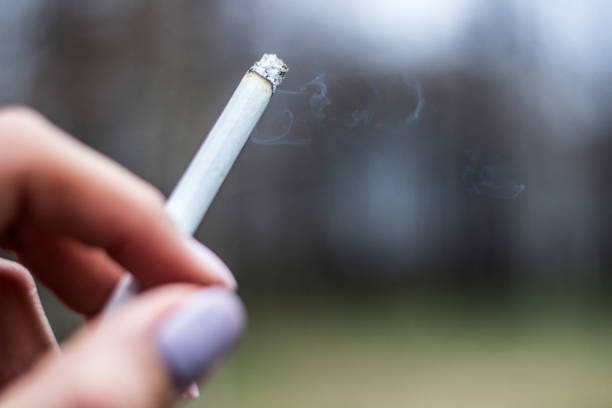cigarette: (99, 50, 293, 318)
